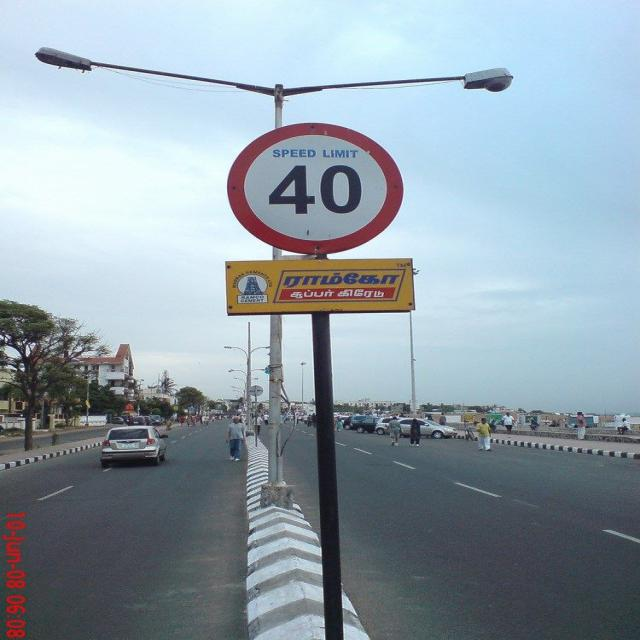speedlimit_40: (224, 126, 405, 260)
